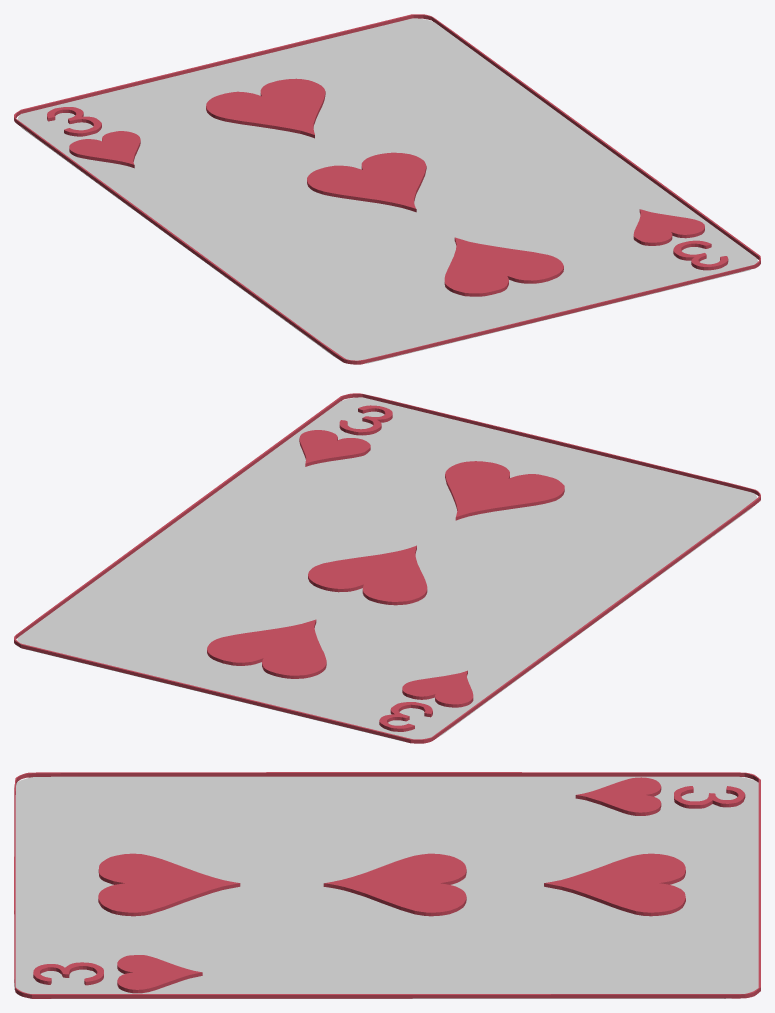
File: 3_hearts.glb
3 views of the same model, one above another, from view 1: azimuth 30°, elevation 25°; view 2: azimuth 150°, elevation 25°; view 3: azimuth 270°, elevation 25° (orthographic). The views are drawn at different scales.
Visible parts, largest first — view 1: Mesh_Mesh_head_geo.001_lambert2SG.001; view 2: Mesh_Mesh_head_geo.001_lambert2SG.001; view 3: Mesh_Mesh_head_geo.001_lambert2SG.001.
Boxes of the visible parts, <box> form: Mesh_Mesh_head_geo.001_lambert2SG.001: <box>14,14,760,364</box>; Mesh_Mesh_head_geo.001_lambert2SG.001: <box>14,393,760,743</box>; Mesh_Mesh_head_geo.001_lambert2SG.001: <box>14,772,760,998</box>.
Size of the model in its own units: 1.2 by 0.01 by 1.7.
